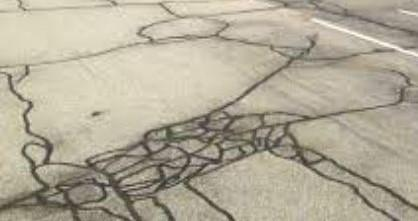alligator-crack: (25, 111, 328, 221)
crack: (233, 29, 329, 88), (353, 40, 418, 114), (139, 16, 203, 50), (10, 57, 42, 121)
